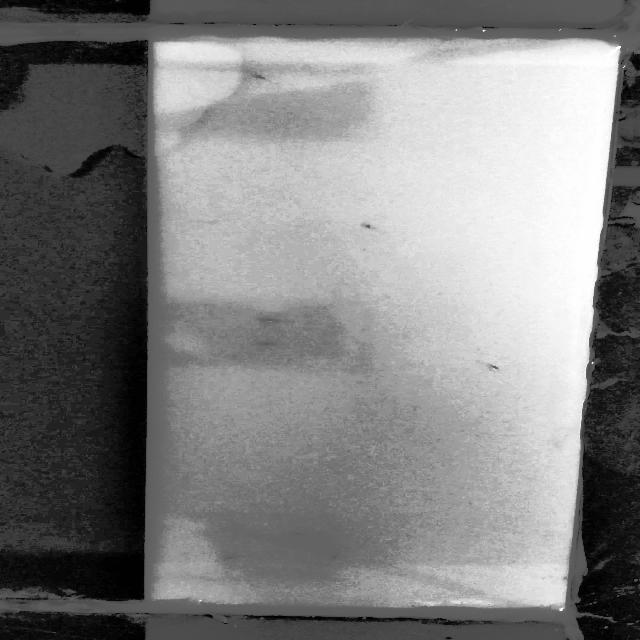shrimp: (246, 68, 278, 84), (477, 358, 508, 373), (255, 314, 290, 325), (324, 546, 346, 561), (355, 220, 379, 232), (251, 340, 292, 347), (221, 554, 245, 563), (284, 530, 314, 537)
